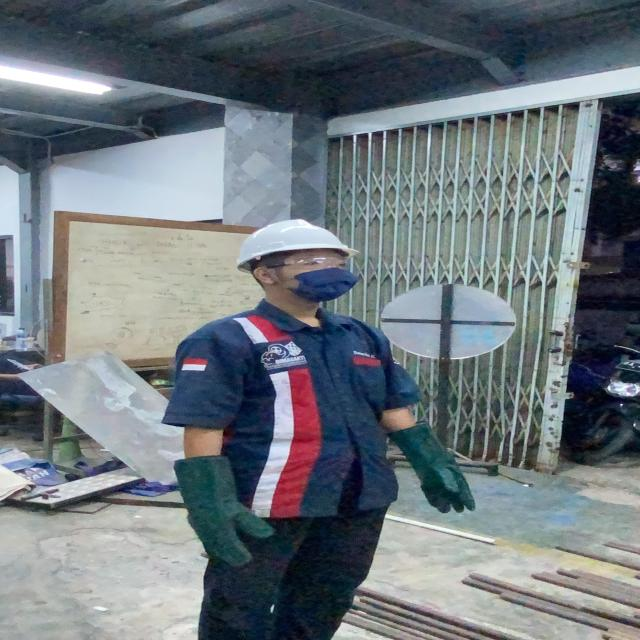face_mask: (286, 253, 358, 297)
glasses: (262, 254, 350, 272)
hand_glove: (178, 496, 276, 568), (406, 456, 481, 520)
head_helmet: (225, 216, 356, 260)
person: (158, 210, 484, 640)
